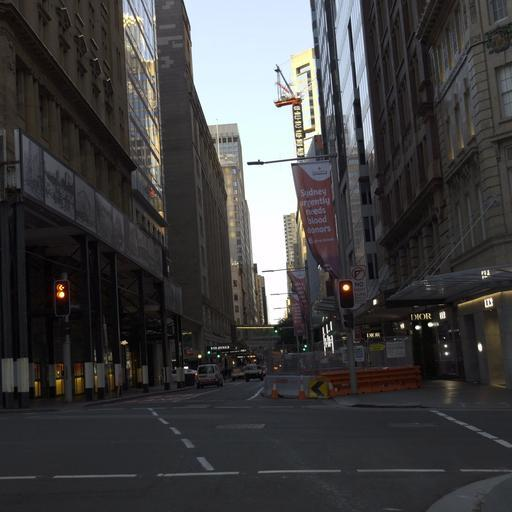Street light: (246, 151, 359, 393), (269, 290, 308, 350), (246, 152, 337, 166), (53, 278, 70, 317), (337, 278, 354, 308), (119, 338, 128, 390)
